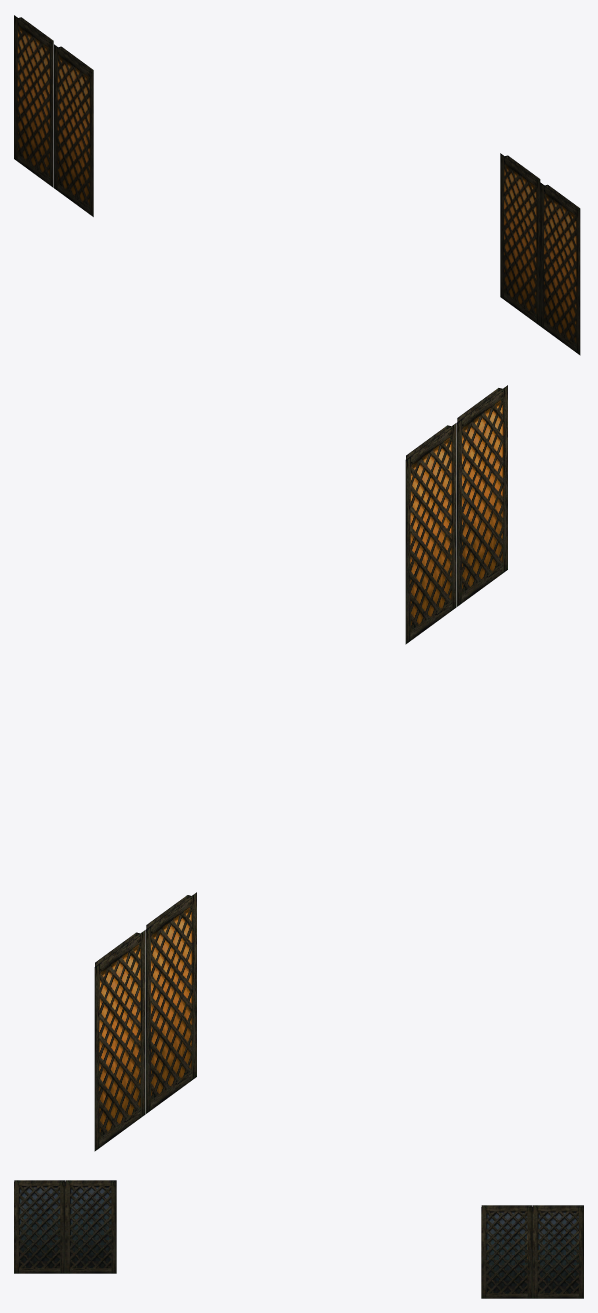
File: LAKETOWN_EXTERIOR_PS_LT_WINDOW_LONG_LOD1_43.fbx
3 renders of one model, top to bottom at view 1: azimuth 30°, elevation 25°; view 2: azimuth 150°, elevation 25°; view 3: azimuth 270°, elevation 25°, orthographic. The views are drawn at different scales.
Visible parts, largest first — view 1: LAKETOWN_EXTERIOR_PS_LT_WINDOW_LONG_LOD1_43; view 2: LAKETOWN_EXTERIOR_PS_LT_WINDOW_LONG_LOD1_43; view 3: LAKETOWN_EXTERIOR_PS_LT_WINDOW_LONG_LOD1_43.
Boxes of the visible parts, bbox=[...] form: LAKETOWN_EXTERIOR_PS_LT_WINDOW_LONG_LOD1_43: bbox=[14, 15, 580, 355]; LAKETOWN_EXTERIOR_PS_LT_WINDOW_LONG_LOD1_43: bbox=[94, 385, 507, 1151]; LAKETOWN_EXTERIOR_PS_LT_WINDOW_LONG_LOD1_43: bbox=[14, 1180, 583, 1298].
Size of the model in its own units: 13549 by 25042 by 83052.
2 materials, 2 textured.
